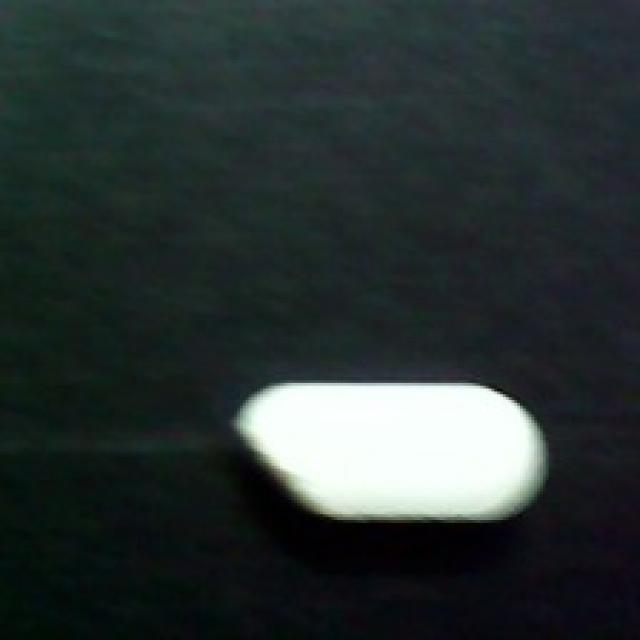defected: (226, 369, 557, 526)
